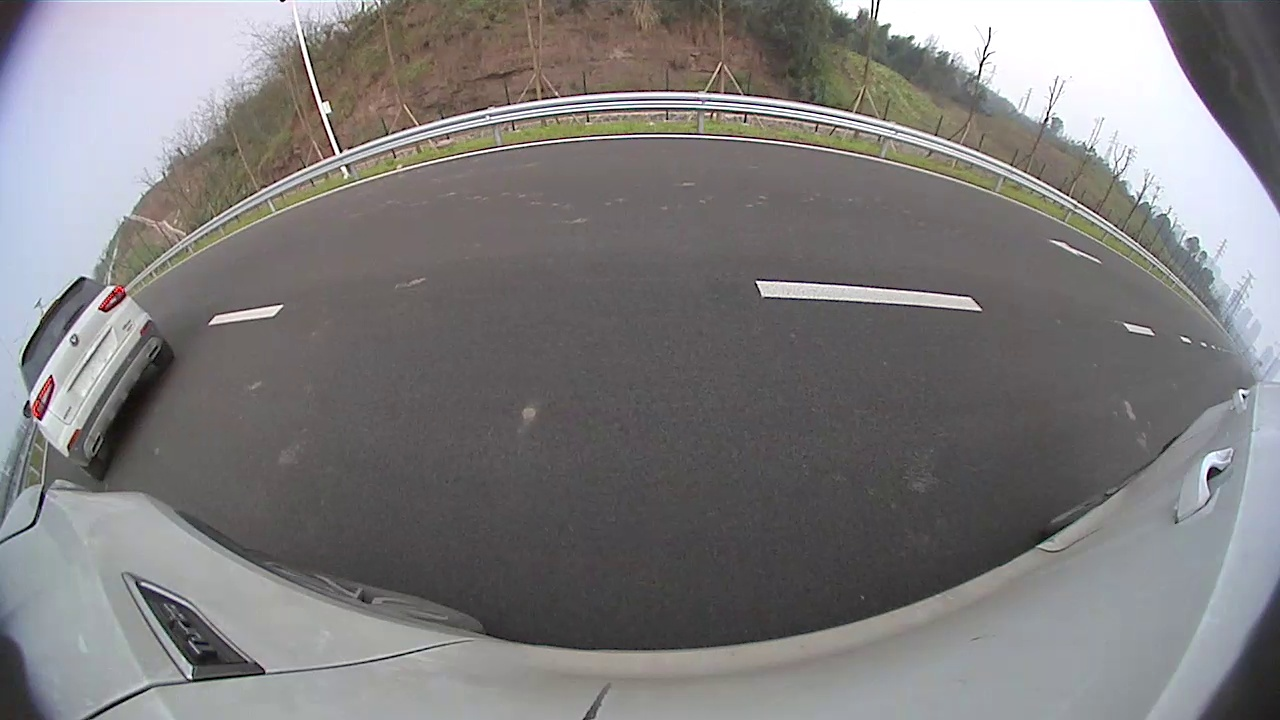car: (17, 275, 174, 481)
